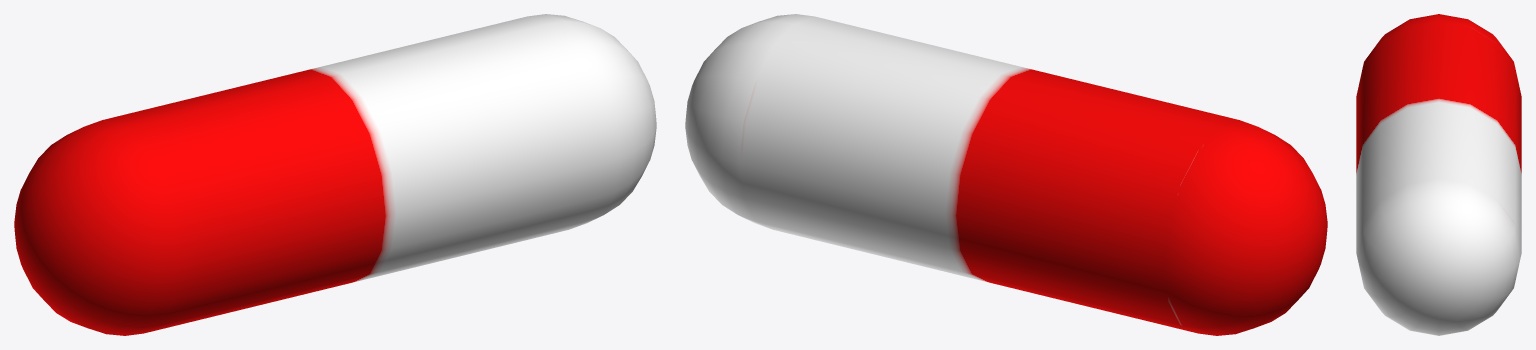
The picture shows the model from 3 angles, left to right: view 1: azimuth 30°, elevation 25°; view 2: azimuth 150°, elevation 25°; view 3: azimuth 270°, elevation 25°; orthographic projection. The views are drawn at different scales.
Parts seen in each view (by area): view 1: Sphere; view 2: Sphere; view 3: Sphere.
Boxes of the visible parts, x1,y1,x2,y2 form: Sphere: (14,14,656,335); Sphere: (685,14,1327,335); Sphere: (1356,14,1521,335).
Bounding box in the file's own units: 0.0224 × 0.00689 × 0.00689.
Materials: 1 (1 with a texture image).
